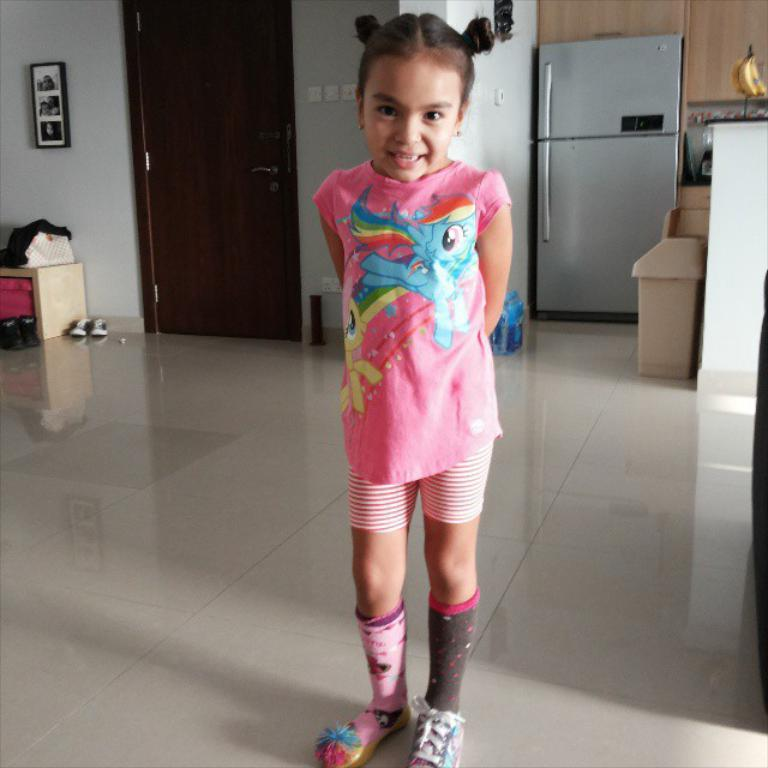Refrigerator: (516, 24, 697, 337)
